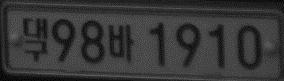0: (235, 24, 263, 70)
1: (206, 23, 231, 67), (147, 22, 172, 65)
8: (80, 19, 105, 63)
9: (175, 22, 201, 66), (50, 17, 75, 61)
대구_V: (22, 16, 49, 62)
바: (107, 24, 135, 62)
